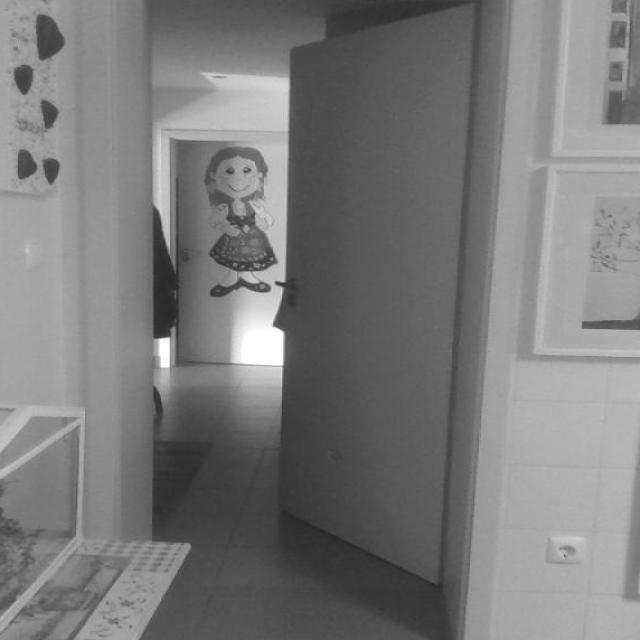door: (275, 2, 479, 586)
